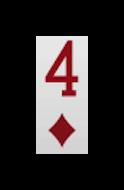4D: (39, 37, 84, 150)
